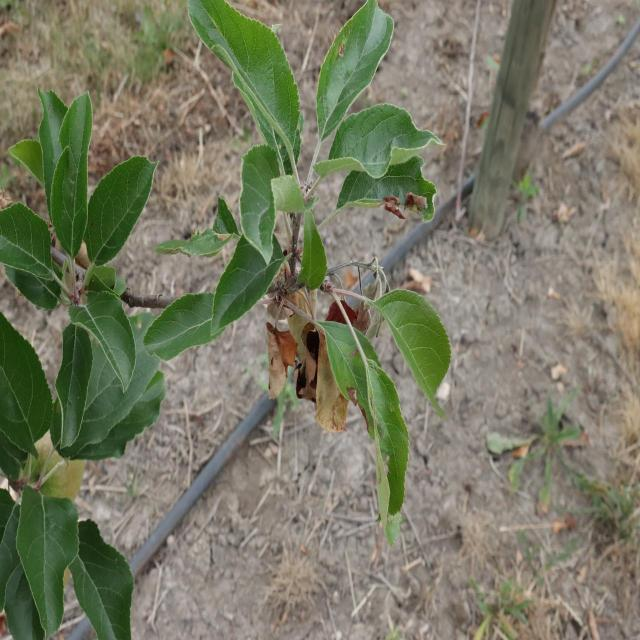-FireBlight-: (260, 278, 366, 438)
